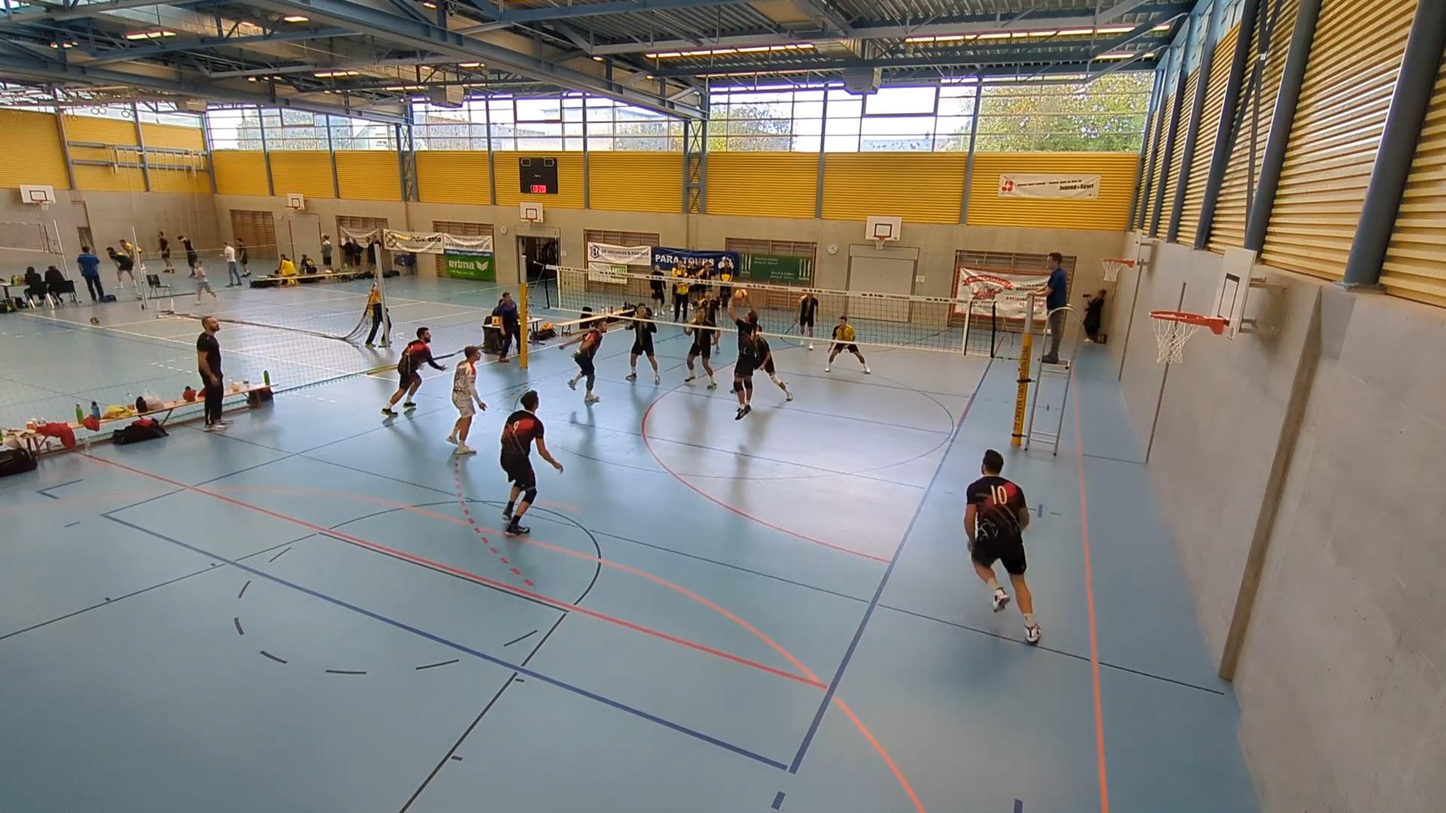alzata: (726, 299, 777, 422)
